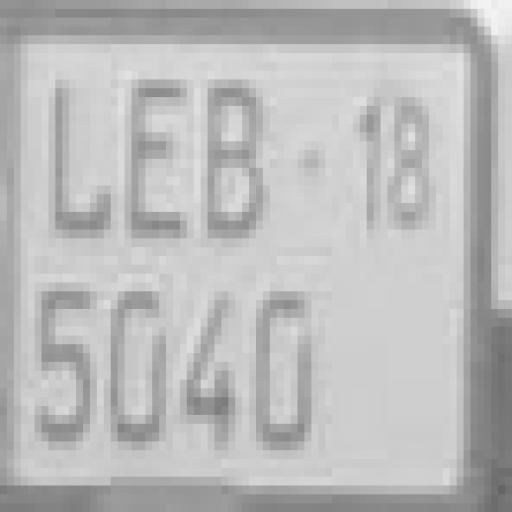0: (106, 287, 175, 450), (254, 283, 308, 462)
4: (180, 287, 240, 459)
5: (27, 277, 98, 453)
B: (200, 70, 268, 240)
E: (123, 72, 188, 248)
L: (50, 76, 112, 234)
